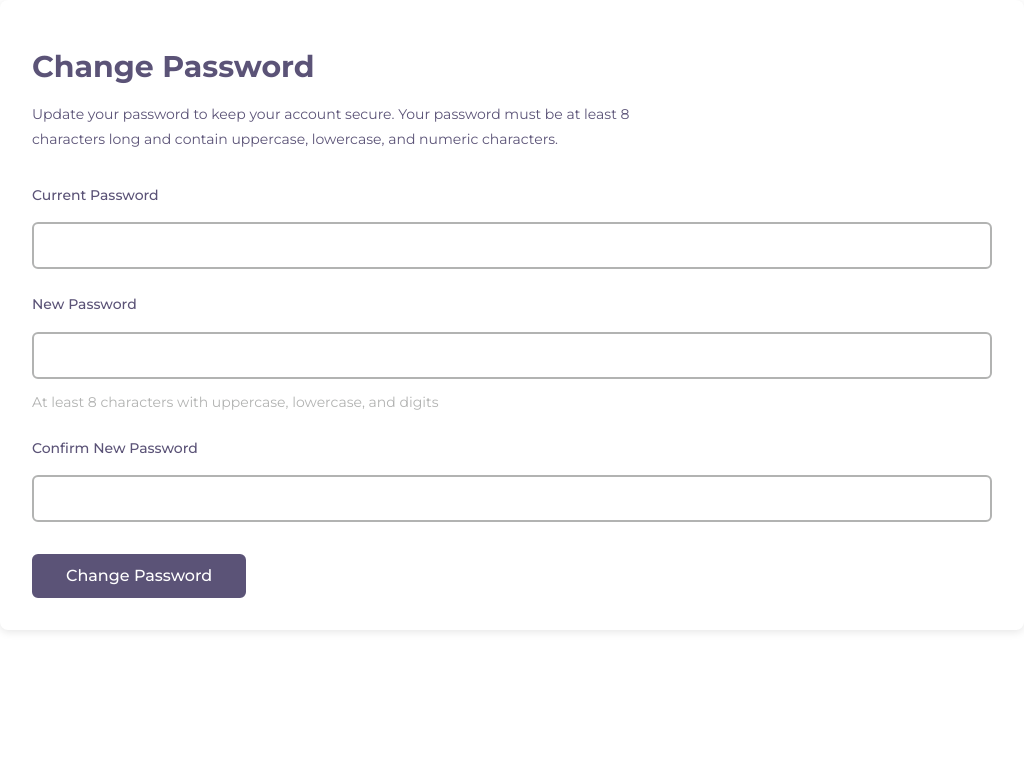
it: ChangePasswordForm › Form Submission › allows manual dismissal of success message
Type "OldPass123" into the password field labelled "Current Password" at (512, 246), box [32,222,992,269]
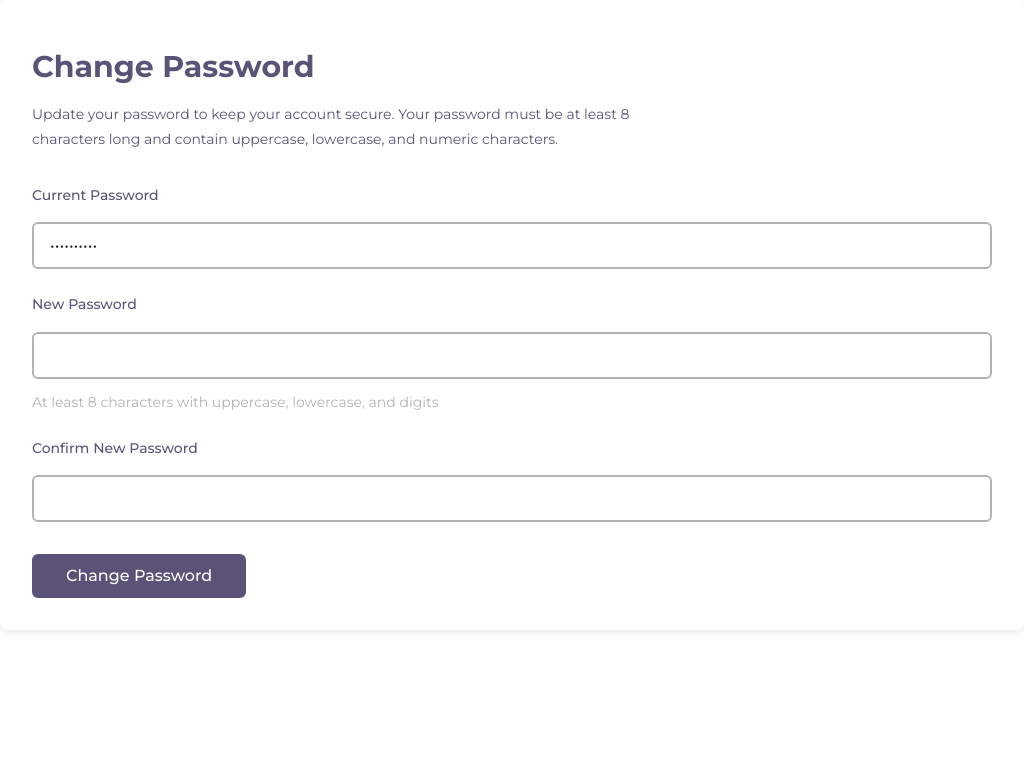
Type "NewPass456" into the password field labelled "New Password" at (512, 355), box [32,332,992,379]
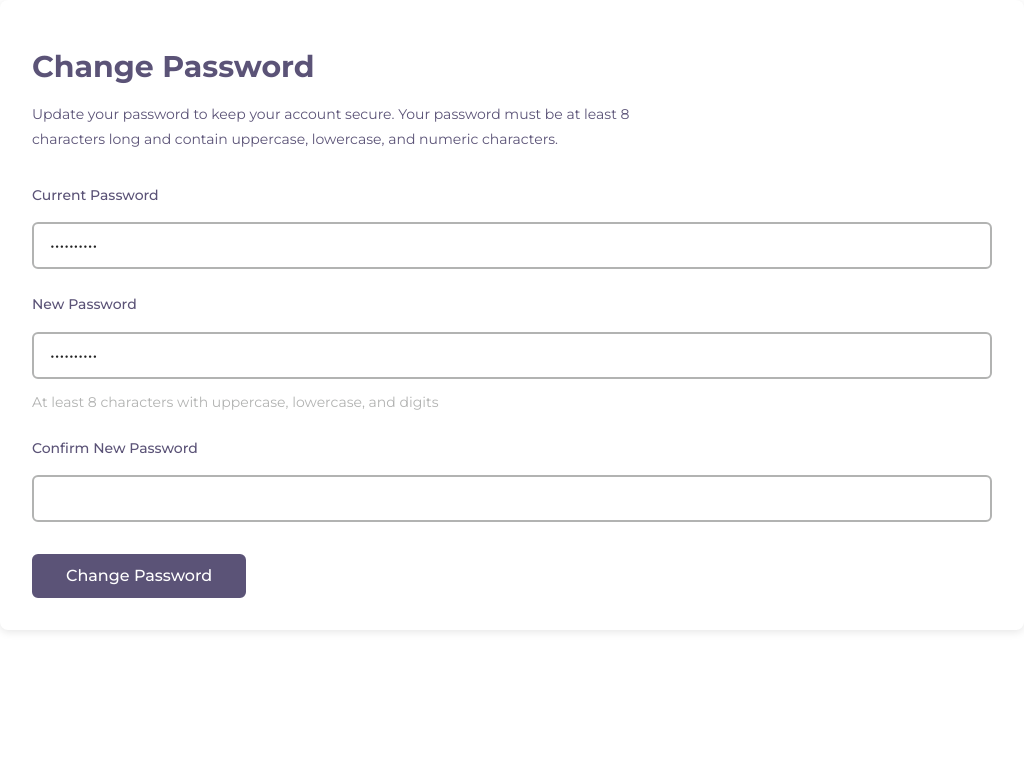
Type "NewPass456" into the password field labelled "Confirm New Password" at (512, 499), box [32,475,992,522]
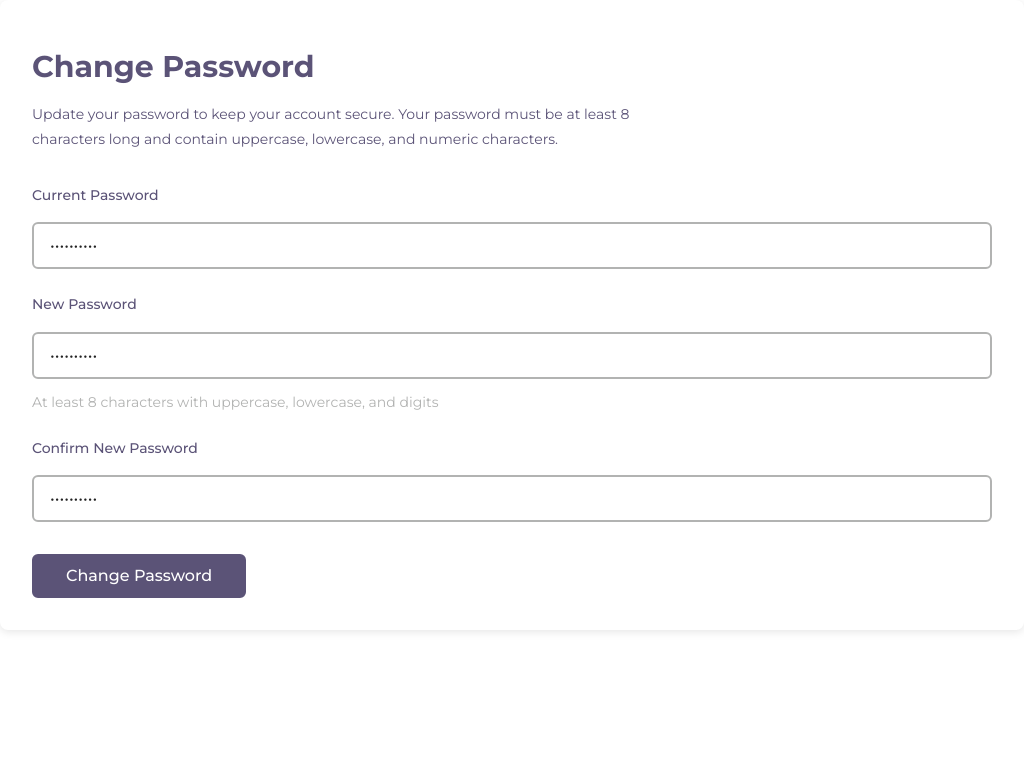
Click the button "Change Password" at (139, 576), box [32,554,246,598]
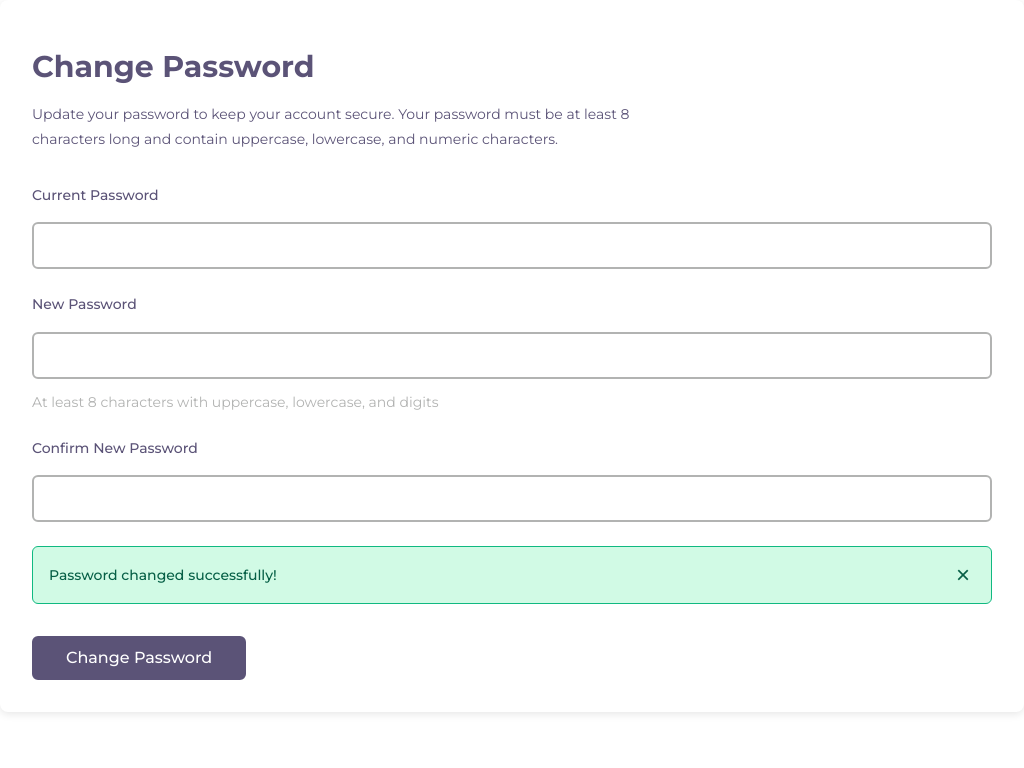
Check: the text "Password changed successfully!" is shown, box [49,564,277,587]
Click the button named "dismiss success message" at (963, 575), box [951,563,975,587]
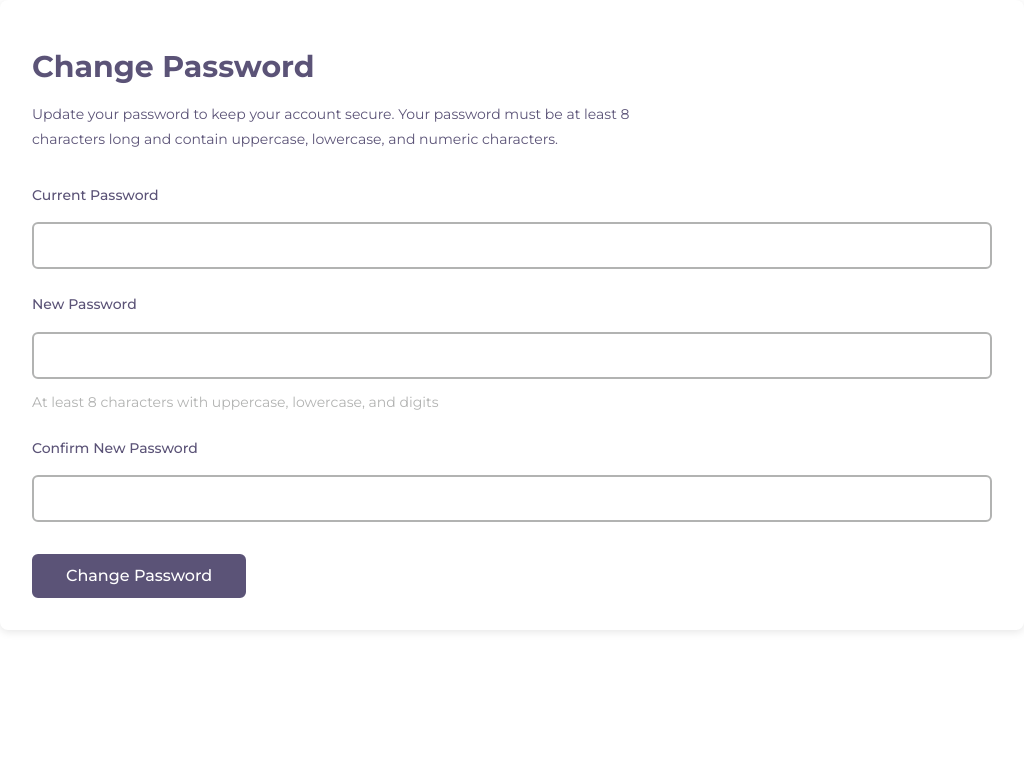
Check: the text "Password changed successfully" is gone
